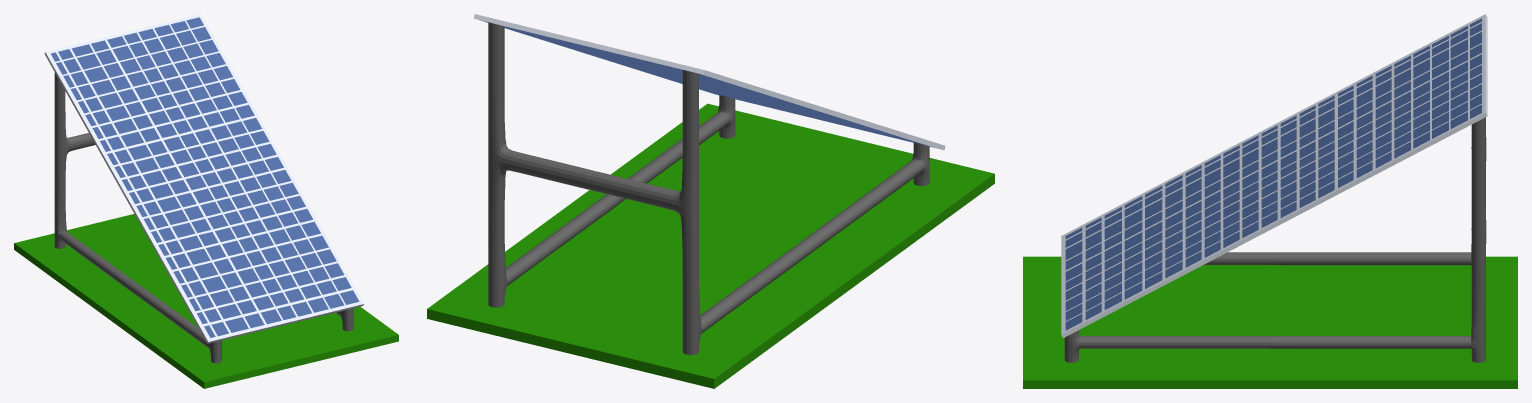
The model's file is panel solar .glb.
The picture shows the model from 3 angles, left to right: view 1: azimuth 30°, elevation 25°; view 2: azimuth 150°, elevation 25°; view 3: azimuth 270°, elevation 25°; orthographic projection. The views are drawn at different scales.
Parts seen in each view (by area): view 1: Cube.003; view 2: Cube.003; view 3: Cube.003.
Part boxes in pixels (<box>): Cube.003: <box>14,14,398,388</box>; Cube.003: <box>427,14,994,388</box>; Cube.003: <box>1023,14,1517,388</box>.
Bounding box in the file's own units: 2.5 × 2.48 × 4.22.
